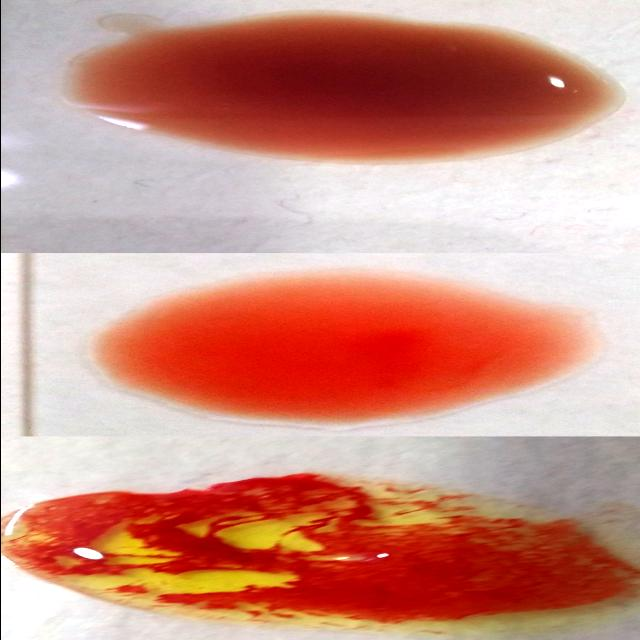B: (17, 472, 617, 630)
